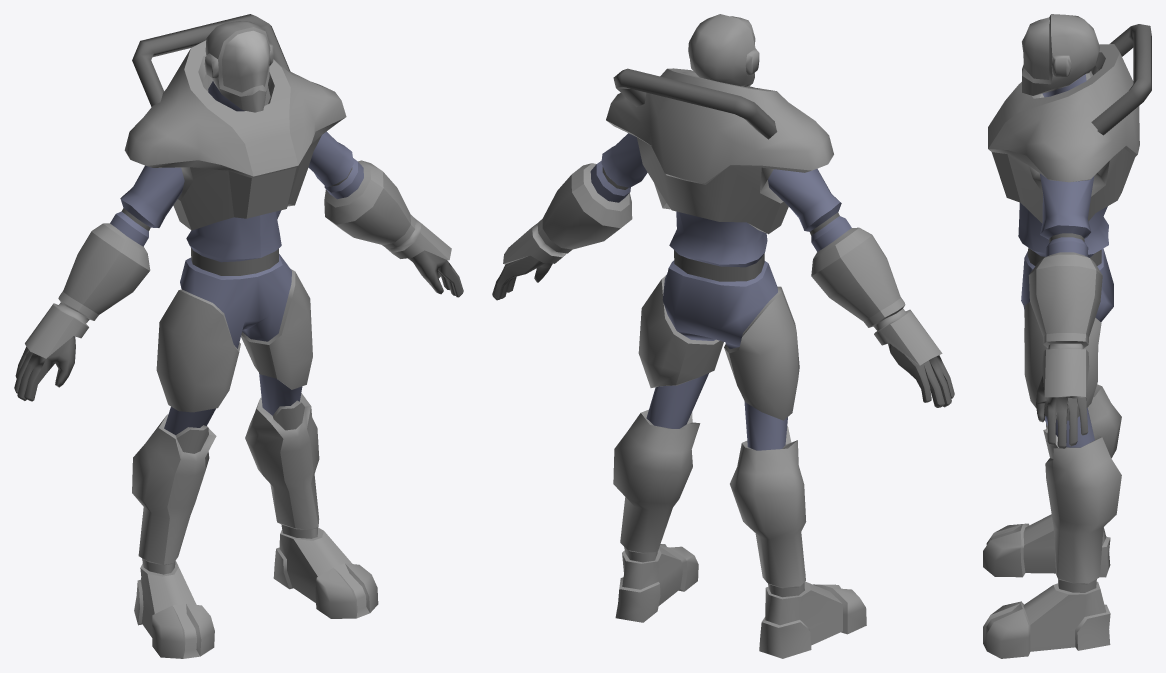
File: SmallEnemyHellfire_low.fbx
The picture shows the model from 3 angles, left to right: view 1: azimuth 30°, elevation 25°; view 2: azimuth 150°, elevation 25°; view 3: azimuth 270°, elevation 25°; orthographic projection. The views are drawn at different scales.
Visible parts, largest first — view 1: SmallEnemyHell_rework; view 2: SmallEnemyHell_rework; view 3: SmallEnemyHell_rework.
Boxes of the visible parts, x1=… form: SmallEnemyHell_rework: x1=14, y1=14, x2=463, y2=658; SmallEnemyHell_rework: x1=492, y1=14, x2=954, y2=658; SmallEnemyHell_rework: x1=983, y1=14, x2=1151, y2=658.
Size of the model in its own units: 1.49 by 1.89 by 0.4917.
